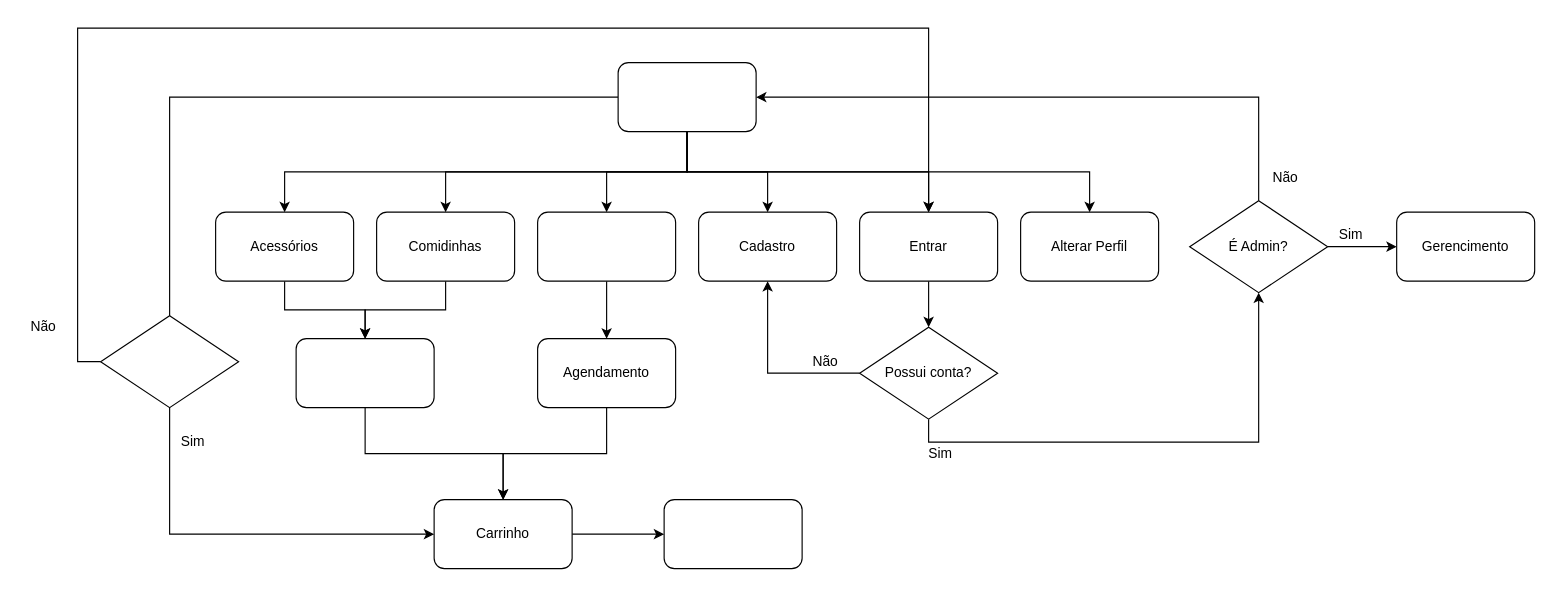
This 1555x589 diagram has some shape labels left out. Here are the shapes that lost their labels. From the top down, the centre of each, then its label:
At [686,97]: "Página Inicial".
At [606,246]: "Serviços".
At [169,361]: "Está logado?".
At [364,373]: "Produto".
At [732,534]: "Finalizar Compra".
